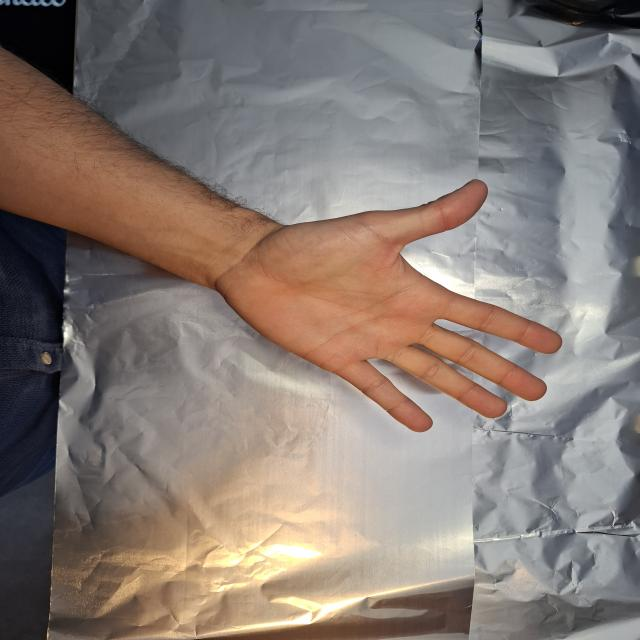glove_off: (198, 177, 568, 435)
